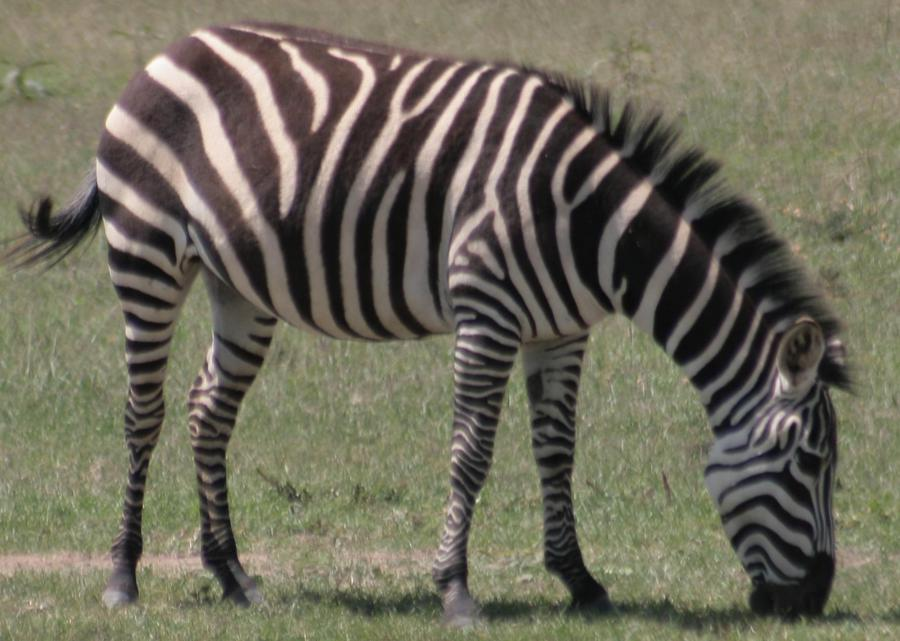zebra_plains: (74, 31, 594, 298)
